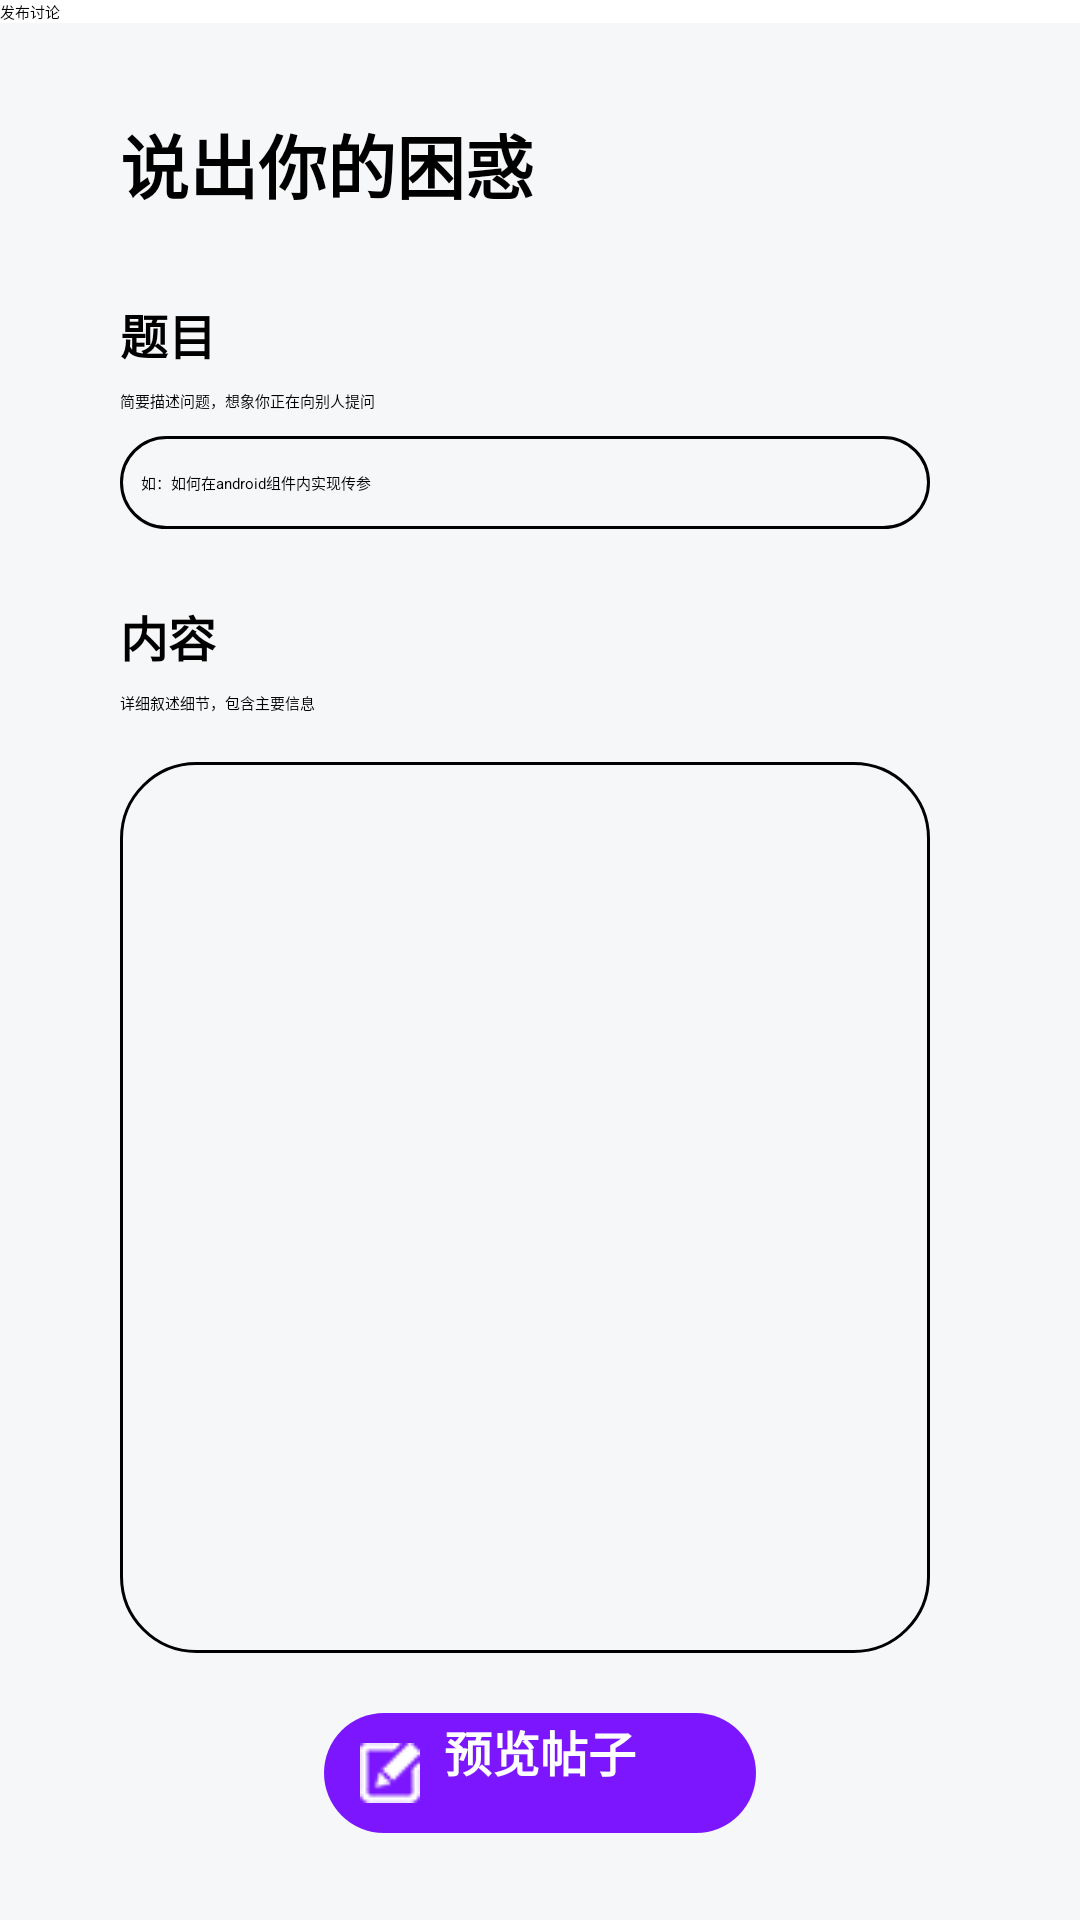

Icon click points for this 1080*1920 phone screenshot, format (x,y):
edit: (390,1773)
